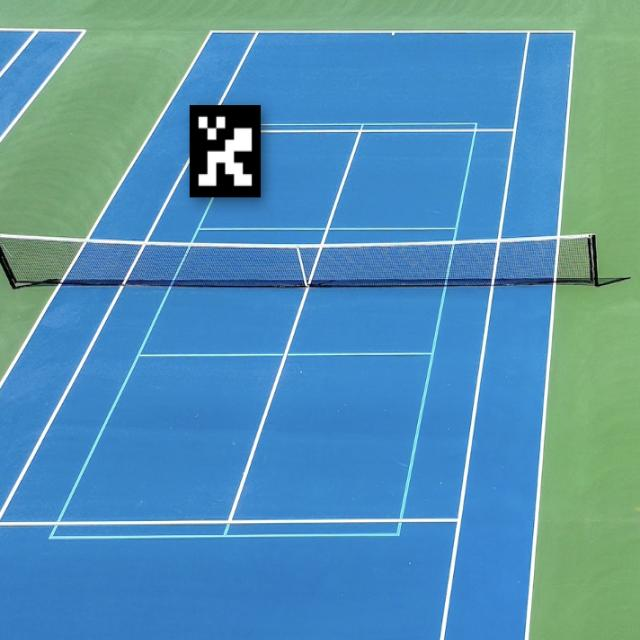marker: (184, 97, 268, 206)
